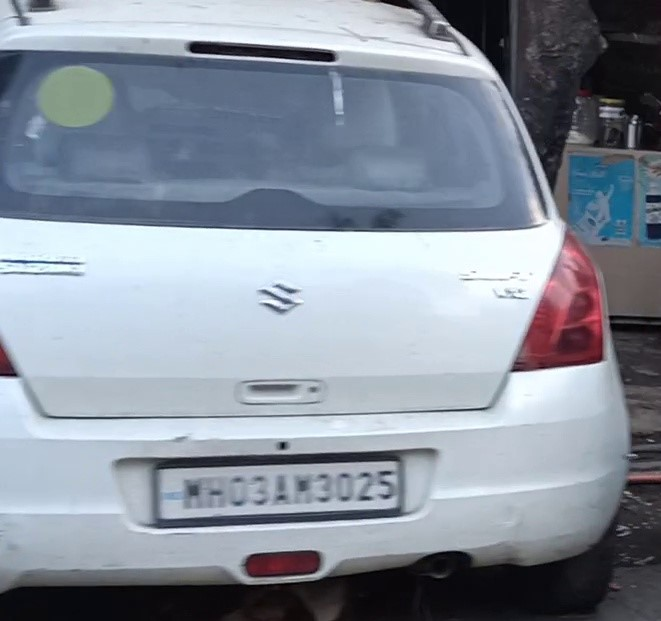MH03AM3025: (158, 462, 402, 513)
